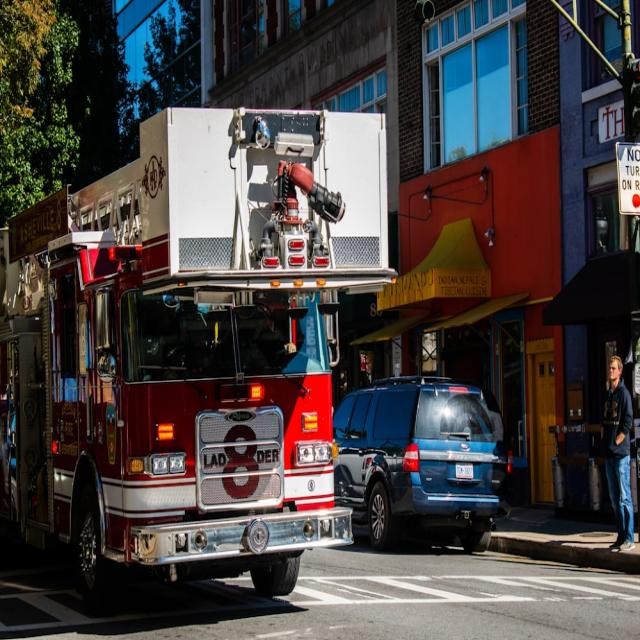car: (334, 379, 511, 552)
emergency: (0, 109, 394, 614)
